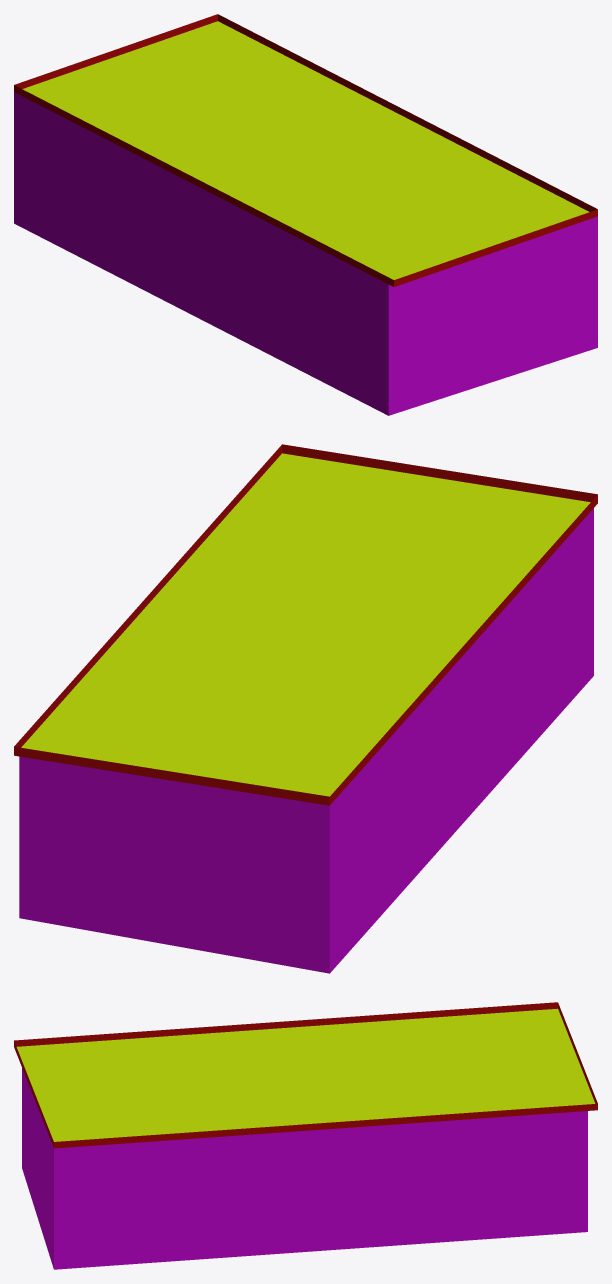
File: niv_57.glb
3 views of the same model, one above another, from view 1: azimuth 30°, elevation 25°; view 2: azimuth 150°, elevation 25°; view 3: azimuth 270°, elevation 25° (orthographic). The views are drawn at different scales.
Parts seen in each view (by area): view 1: niv_57; view 2: niv_57; view 3: niv_57.
Part boxes in pixels (x1,y1,x2,y2): niv_57: (14, 14, 597, 415); niv_57: (14, 444, 597, 973); niv_57: (14, 1002, 597, 1269).
Bounding box in the file's own units: 16.07 × 6.85 × 28.38.
